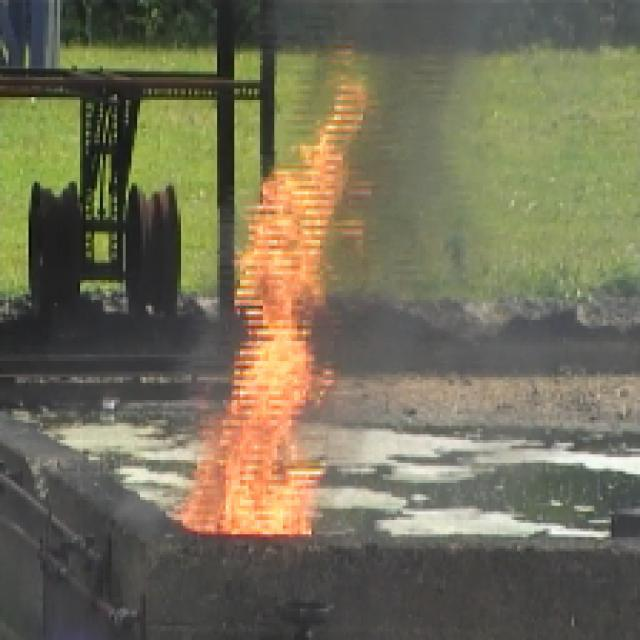Fire: (231, 142, 334, 519)
